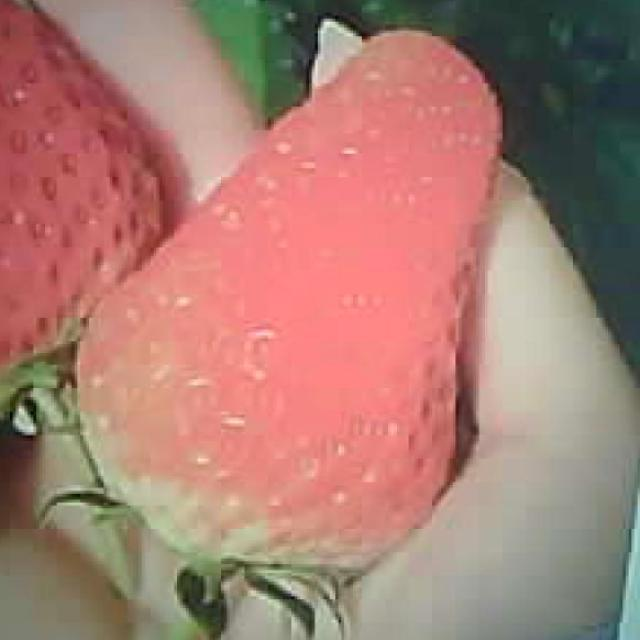Healthy Fruit: (82, 28, 507, 579)
